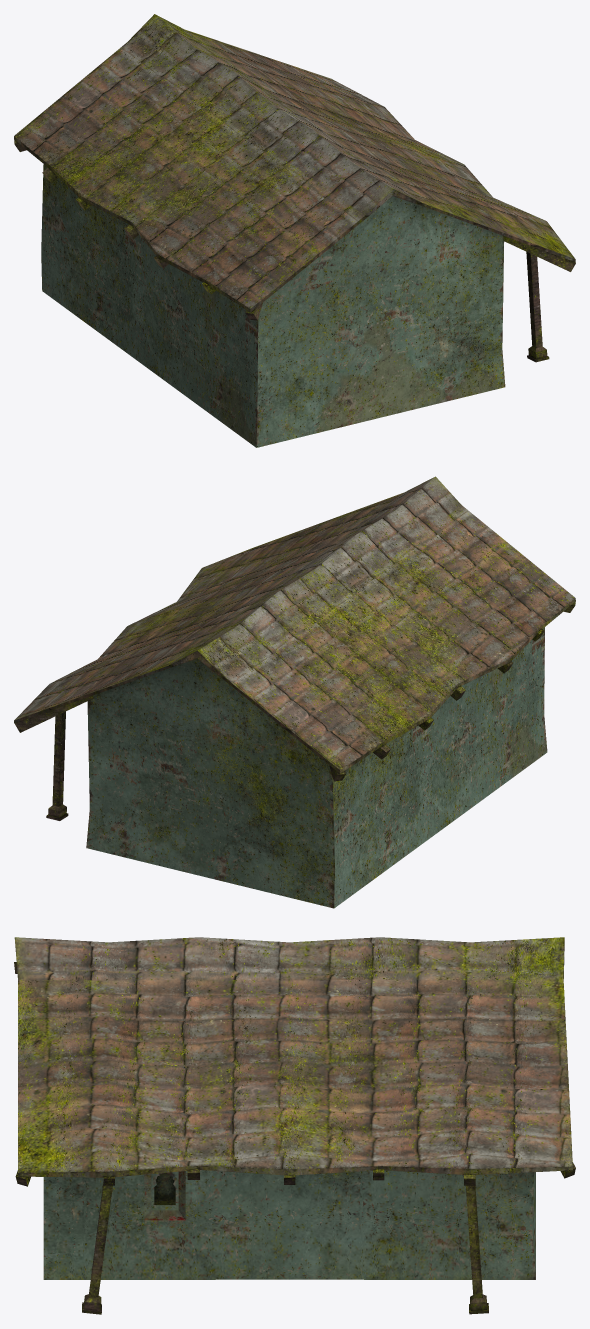
File: indian_house_2_-_game_asset.glb
3 renders of one model, top to bottom at view 1: azimuth 30°, elevation 25°; view 2: azimuth 150°, elevation 25°; view 3: azimuth 270°, elevation 25°, orthographic. The views are drawn at different scales.
Parts seen in each view (by area): view 1: building_001.001; view 2: building_001.001; view 3: building_001.001.
Part boxes in pixels (x1,y1,x2,y2): building_001.001: (14, 14, 575, 447); building_001.001: (14, 476, 575, 908); building_001.001: (14, 937, 575, 1314).
Bounding box in the file's own units: 5.12 × 3.32 × 6.17.
1 material, 1 textured.
